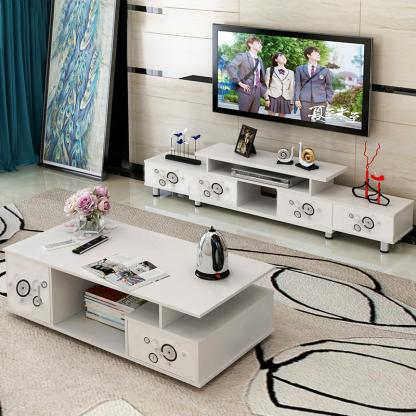TV stand: (143, 143, 416, 253)
